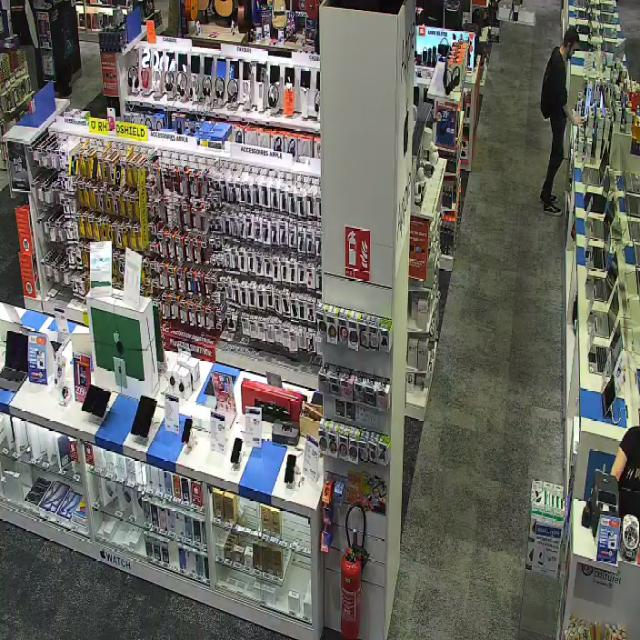hands: (563, 104, 584, 126)
person: (540, 28, 586, 214)
